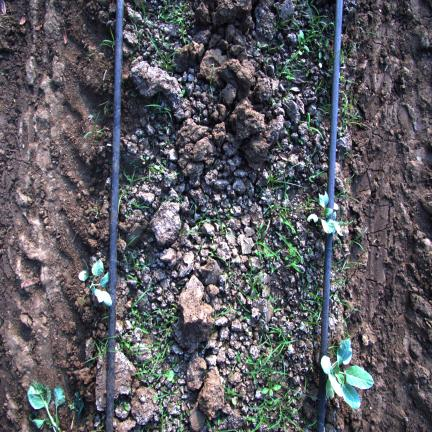crop: (321, 339, 374, 409), (27, 381, 65, 432), (79, 260, 112, 307), (307, 192, 341, 234)
